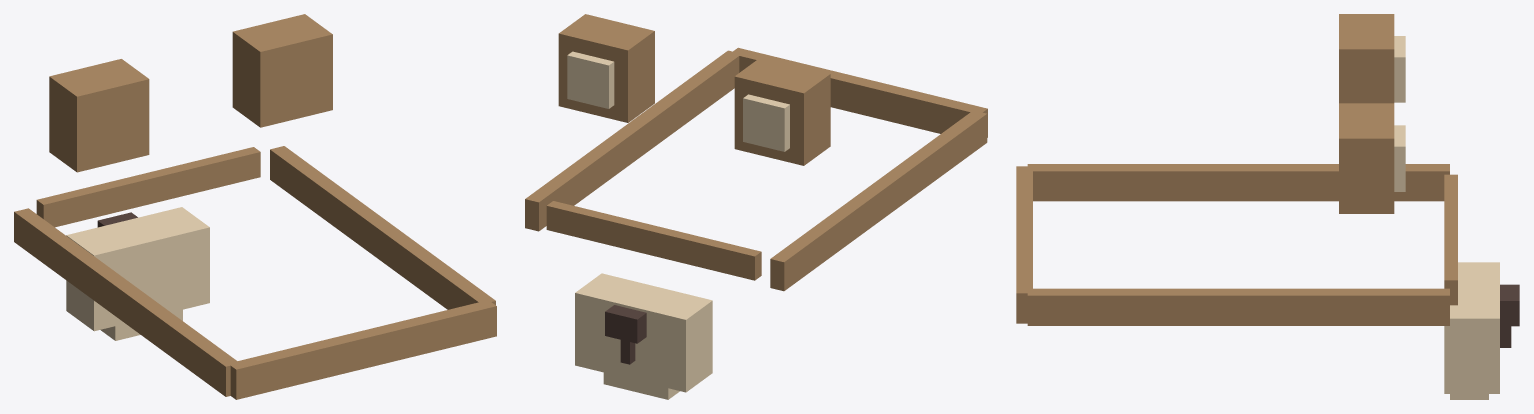
The model's file is pelucia_urso.glb.
3 views of the same model, side by side, from view 1: azimuth 30°, elevation 25°; view 2: azimuth 150°, elevation 25°; view 3: azimuth 270°, elevation 25° (orthographic). The views are drawn at different scales.
Parts seen in each view (by area): view 1: pelucia_urso; view 2: pelucia_urso; view 3: pelucia_urso.
Boxes of the visible parts, bbox=[...] form: pelucia_urso: bbox=[14, 14, 496, 399]; pelucia_urso: bbox=[525, 14, 987, 399]; pelucia_urso: bbox=[1016, 14, 1519, 399].
Bounding box in the file's own units: 0.56 × 0.61 × 0.905.
